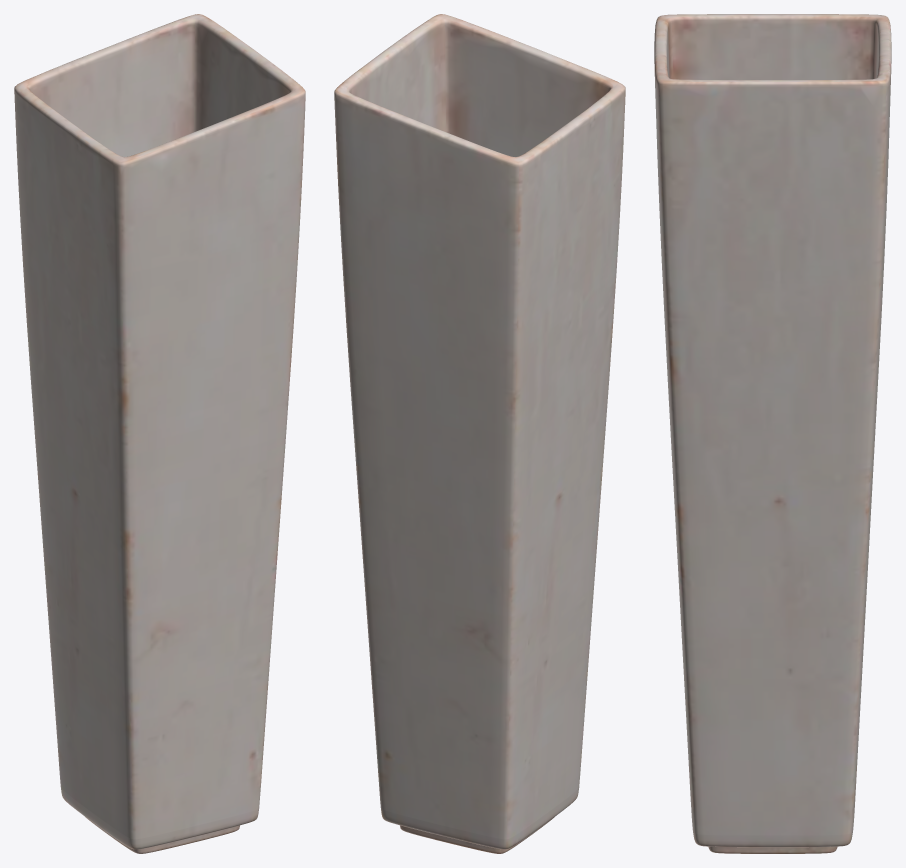
The model's file is ceramic_vase_03.glb.
3 views of the same model, side by side, from view 1: azimuth 30°, elevation 25°; view 2: azimuth 150°, elevation 25°; view 3: azimuth 270°, elevation 25° (orthographic). The views are drawn at different scales.
Visible parts, largest first — view 1: ceramic_vase_03; view 2: ceramic_vase_03; view 3: ceramic_vase_03.
Part boxes in pixels (bbox=[...]): ceramic_vase_03: bbox=[14, 14, 305, 853]; ceramic_vase_03: bbox=[334, 14, 625, 853]; ceramic_vase_03: bbox=[654, 14, 891, 853].
Size of the model in its own units: 0.1123 by 0.4144 by 0.1123.
Materials: 1 (1 with a texture image).
